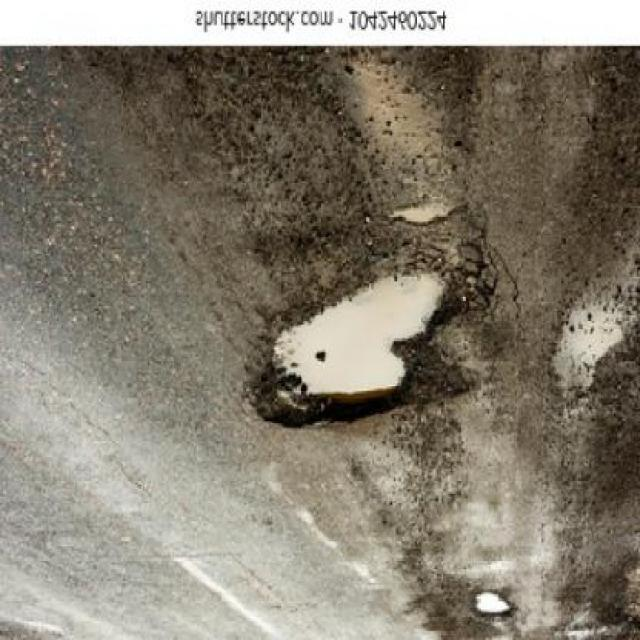pothole: (234, 228, 476, 472), (543, 238, 639, 430), (462, 580, 524, 634)
